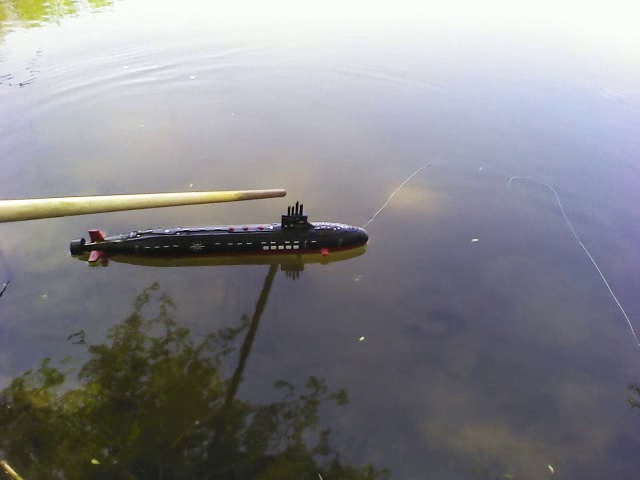submarine: (69, 224, 373, 264)
